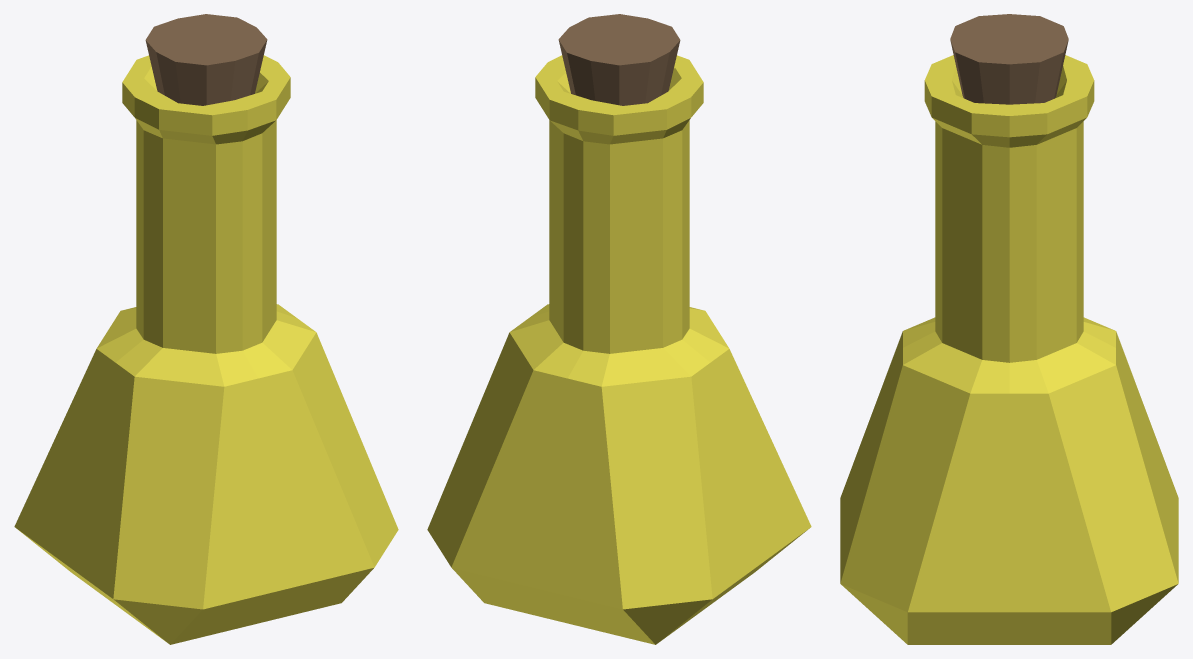
File: yellowBottle.glb
The picture shows the model from 3 angles, left to right: view 1: azimuth 30°, elevation 25°; view 2: azimuth 150°, elevation 25°; view 3: azimuth 270°, elevation 25°; orthographic projection. The views are drawn at different scales.
Visible parts, largest first — view 1: Small_Yellow_22; view 2: Small_Yellow_22; view 3: Small_Yellow_22.
Part boxes in pixels (left/top/right/bottom): Small_Yellow_22: left=14, top=14, right=398, bottom=644; Small_Yellow_22: left=427, top=14, right=811, bottom=644; Small_Yellow_22: left=840, top=14, right=1178, bottom=644.
Size of the model in its own units: 0.5655 by 1.04 by 0.5655.
